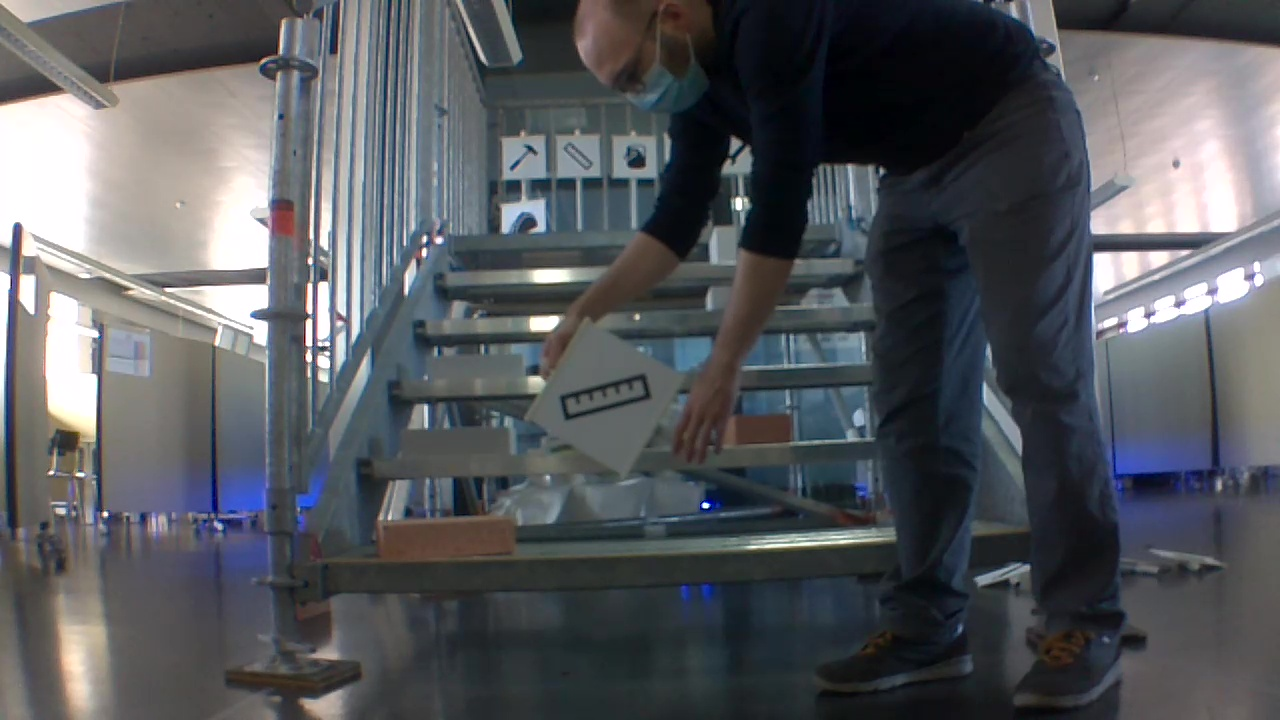brick: (379, 509, 514, 561), (395, 421, 513, 461), (415, 348, 523, 380), (731, 410, 790, 447), (715, 225, 742, 261), (707, 284, 734, 305)
bucket: (620, 141, 650, 173)
hammer: (510, 143, 539, 172)
ruler: (561, 368, 659, 425), (565, 141, 596, 171)
taco: (505, 206, 540, 235)
